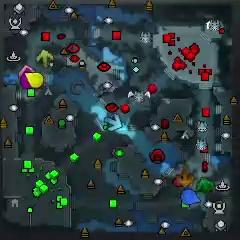p1: (181, 189, 200, 205)
p3: (19, 68, 32, 89)
p4: (25, 72, 43, 87)
x1: (18, 64, 35, 76)
x2: (37, 49, 53, 67)
x3: (105, 113, 122, 132)
x4: (197, 176, 213, 190)
x5: (177, 167, 193, 186)
